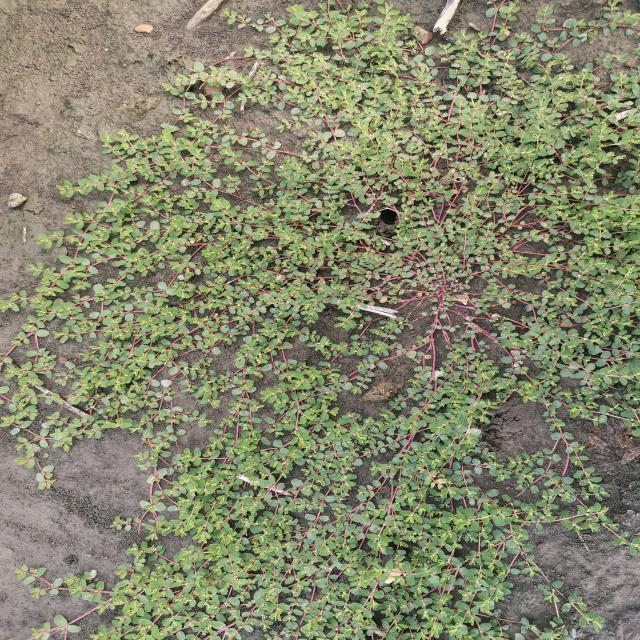SpottedSpurge: (2, 1, 638, 638)
